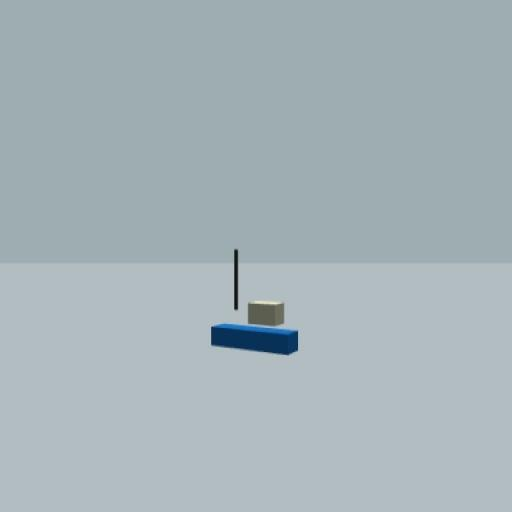fishing_boat: (209, 248, 301, 358)
